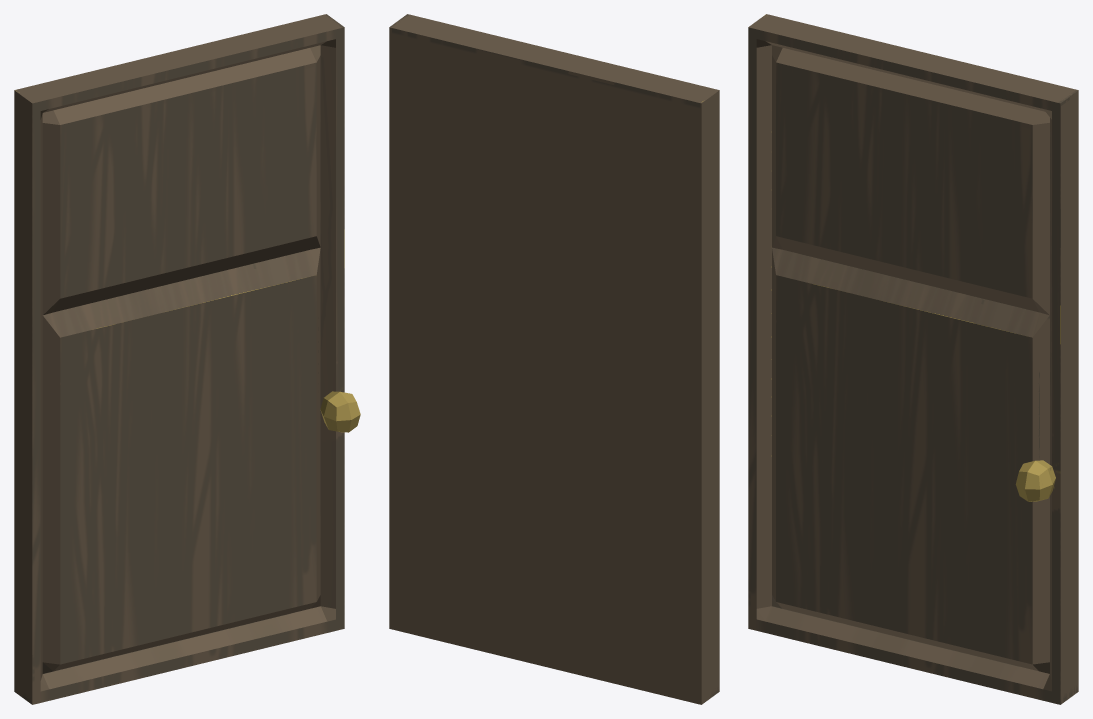
File: door.fbx
3 views of the same model, side by side, from view 1: azimuth 30°, elevation 25°; view 2: azimuth 150°, elevation 25°; view 3: azimuth 330°, elevation 25° (orthographic).
Visible parts, largest first — view 1: Cube; view 2: Cube; view 3: Cube.
Part boxes in pixels (x1,y1,x2,y2): Cube: (14, 14, 360, 704); Cube: (389, 14, 719, 704); Cube: (748, 14, 1078, 704).
Size of the model in its own units: 674 by 1231 by 146.
1 material, 1 textured.
